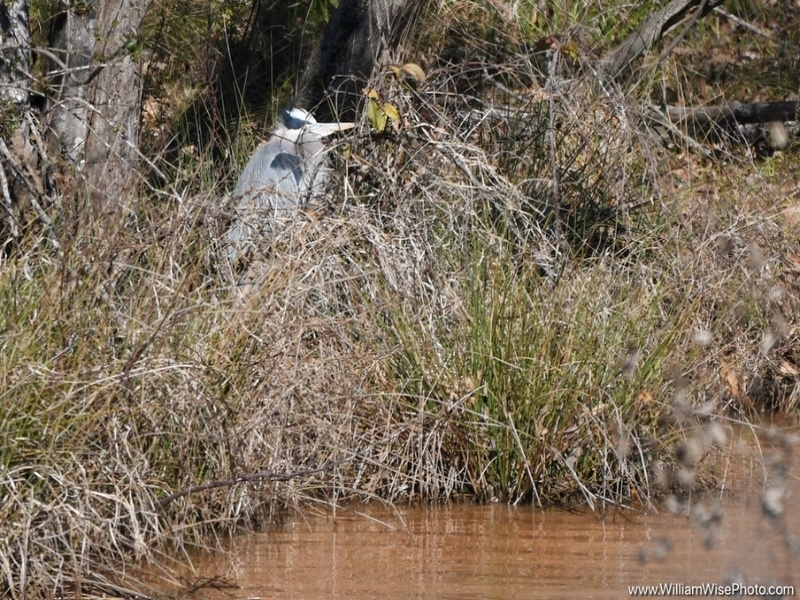heron: (217, 103, 360, 274)
